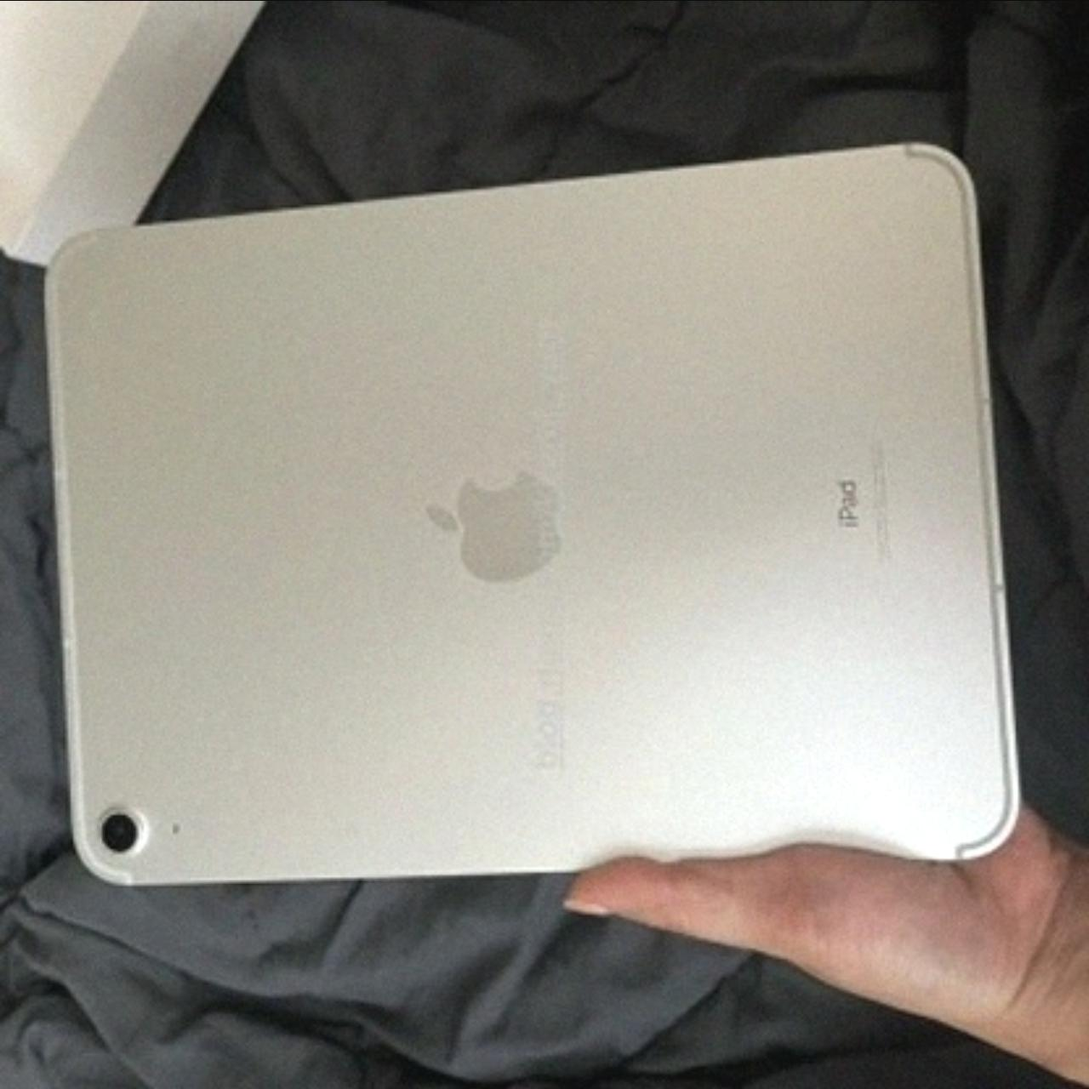Tablet_PC: (39, 123, 1031, 908)
